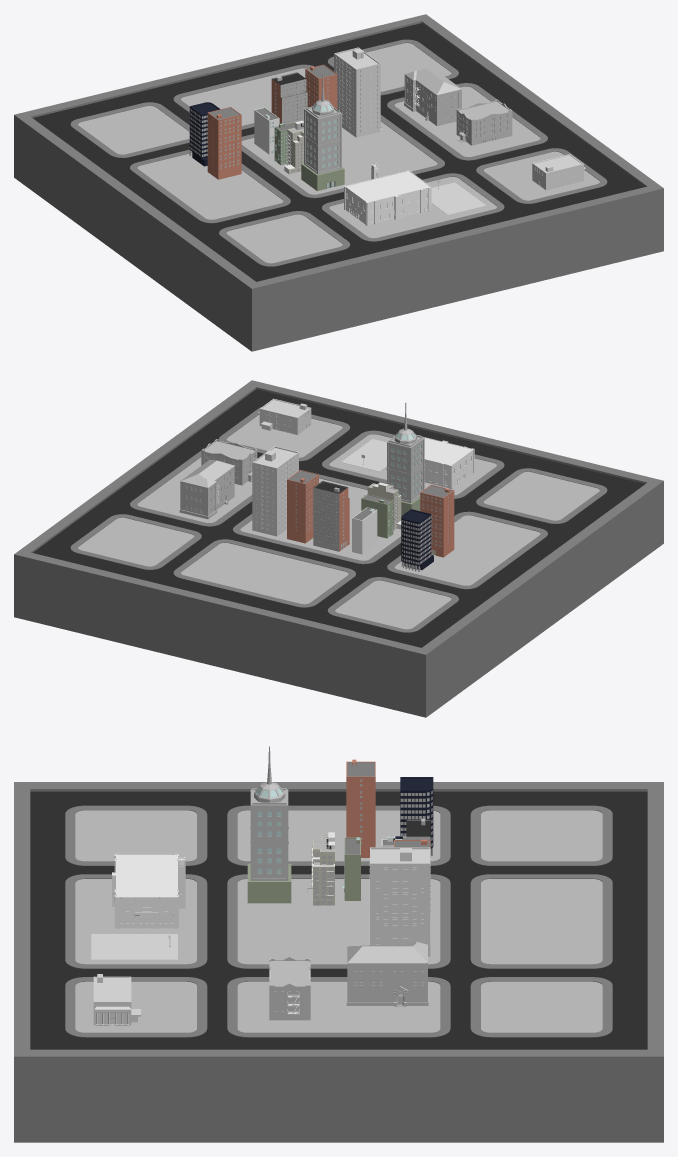
File: City.fbx
The picture shows the model from 3 angles, top to bottom: view 1: azimuth 30°, elevation 25°; view 2: azimuth 150°, elevation 25°; view 3: azimuth 270°, elevation 25°; orthographic projection. The views are drawn at different scales.
Parts seen in each view (by area): view 1: Plane, Plane.003, Cube.003, Builing_j, Cube.006, Cube.001, Building1, Building_z, Building_B1.001, Cube.002, Building_A.001, Building1.001 (+4 smaller); view 2: Plane, Plane.003, Builing_j, Cube.006, Cube.001, Building_B1.001, Cube.003, Building1.001, Building1, Building_A.001, Cube.002, Building_z (+4 smaller); view 3: Plane, Plane.003, Builing_j, Cube.003, Cube.001, Cube.006, Building_z, Building1, Plane.002, Cube.002, Building_A.001, Building_k (+2 smaller).
Boxes of the visible parts, left/top/right/bottom form: Plane: left=14, top=14, right=663, bottom=351; Plane.003: left=70, top=39, right=607, bottom=266; Cube.003: left=344, top=163, right=431, bottom=225; Builing_j: left=334, top=47, right=381, bottom=137; Cube.006: left=301, top=74, right=344, bottom=191; Cube.001: left=404, top=67, right=461, bottom=125; Building1: left=207, top=107, right=241, bottom=179; Building_z: left=456, top=99, right=512, bottom=145; Building_B1.001: left=271, top=72, right=307, bottom=124; Cube.002: left=532, top=154, right=585, bottom=190; Building_A.001: left=189, top=102, right=220, bottom=166; Building1.001: left=305, top=64, right=337, bottom=109; Plane: left=14, top=380, right=663, bottom=717; Plane.003: left=70, top=407, right=607, bottom=632; Builing_j: left=252, top=446, right=298, bottom=536; Cube.006: left=386, top=402, right=424, bottom=516; Cube.001: left=179, top=459, right=234, bottom=519; Building_B1.001: left=313, top=481, right=349, bottom=551; Cube.003: left=417, top=435, right=474, bottom=488; Building1.001: left=287, top=470, right=318, bottom=543; Building1: left=420, top=484, right=454, bottom=557; Building_A.001: left=401, top=509, right=433, bottom=571; Cube.002: left=258, top=398, right=311, bottom=434; Building_z: left=201, top=439, right=257, bottom=485; Plane: left=14, top=782, right=663, bottom=1142; Plane.003: left=65, top=805, right=612, bottom=1037; Builing_j: left=369, top=847, right=430, bottom=956; Cube.003: left=112, top=853, right=185, bottom=928; Cube.001: left=346, top=942, right=428, bottom=1006; Cube.006: left=247, top=746, right=291, bottom=903; Building_z: left=269, top=956, right=310, bottom=1020; Building1: left=346, top=759, right=375, bottom=857; Plane.002: left=91, top=934, right=177, bottom=959; Cube.002: left=93, top=974, right=141, bottom=1025; Building_A.001: left=395, top=777, right=433, bottom=855; Building_k: left=307, top=832, right=334, bottom=905.
Bounding box in the file's own units: 21.34 × 8.37 × 21.34.
